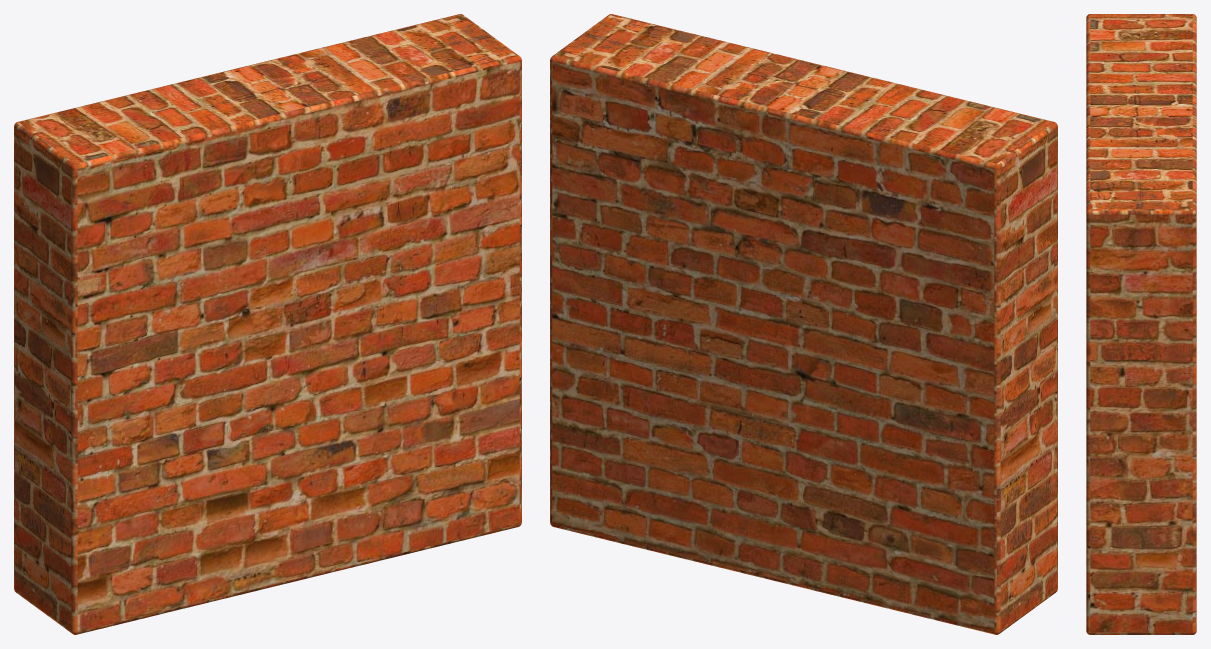
The picture shows the model from 3 angles, left to right: view 1: azimuth 30°, elevation 25°; view 2: azimuth 150°, elevation 25°; view 3: azimuth 270°, elevation 25°; orthographic projection. The views are drawn at different scales.
Parts seen in each view (by area): view 1: Chamfer_Box__14522_ChamferBox_0; view 2: Chamfer_Box__14522_ChamferBox_0; view 3: Chamfer_Box__14522_ChamferBox_0.
Boxes of the visible parts, bbox=[...] form: Chamfer_Box__14522_ChamferBox_0: bbox=[14, 14, 521, 634]; Chamfer_Box__14522_ChamferBox_0: bbox=[550, 14, 1057, 634]; Chamfer_Box__14522_ChamferBox_0: bbox=[1086, 14, 1196, 634].
Bounding box in the file's own units: 16.98 × 16.98 × 4.
